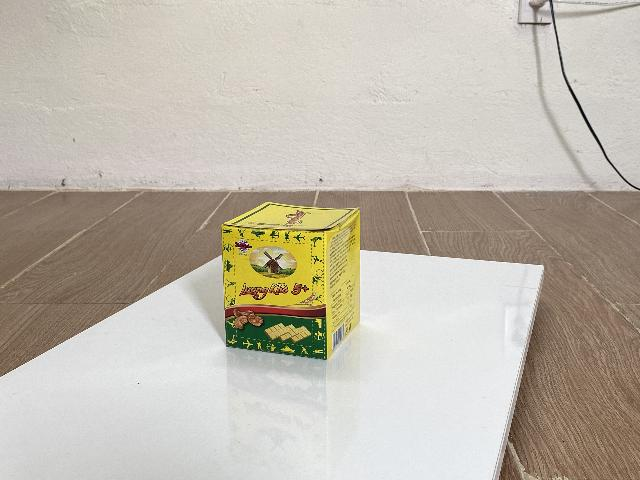luong_kho: (222, 202, 361, 361)
